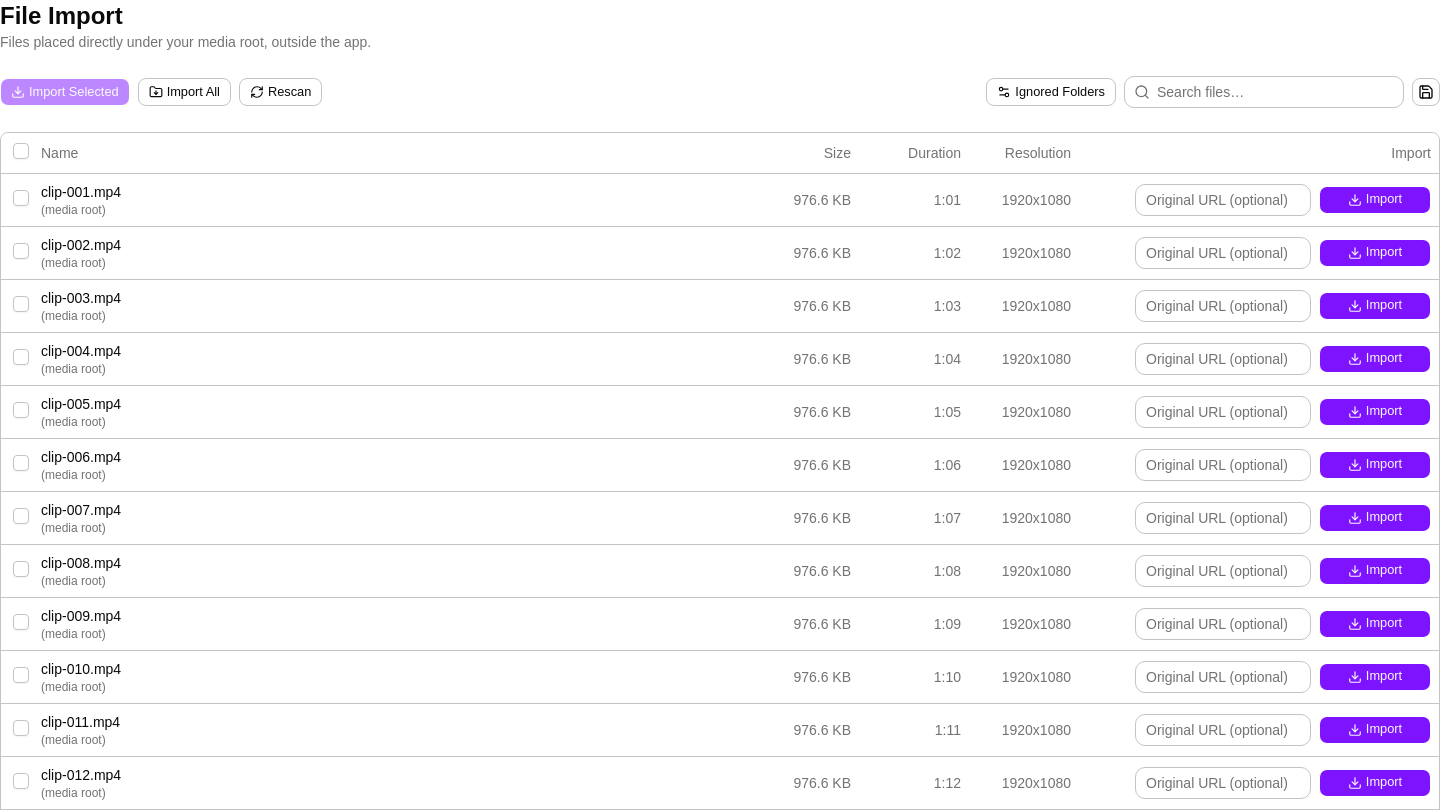
Scenario: ImportPage table › importing › Import All asks first, counts the pending files on every page and skips the imported ones
The width and height of the screenshot is (1440, 810).
Expected: the text "clip-001.mp4" is shown, [41,184,121,200]
Click the button "Import" in the row of "clip-001.mp4". click: coordinates (1375, 200)
box: [1319,186,1431,214]
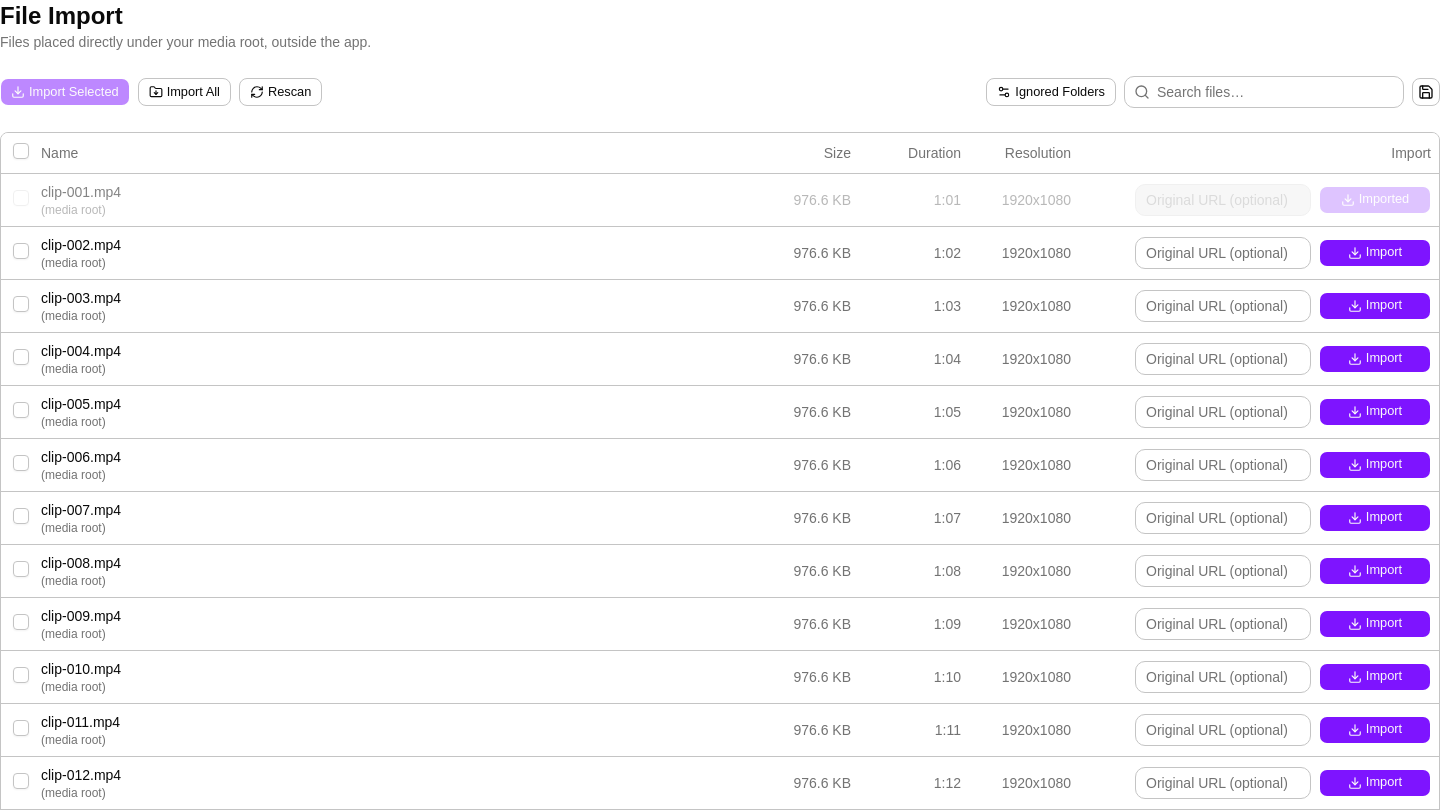
Now the button "Imported" is shown, box [1319,186,1431,214]
Click the button "Import All". click: coordinates (184, 92)
box: [138,78,231,106]
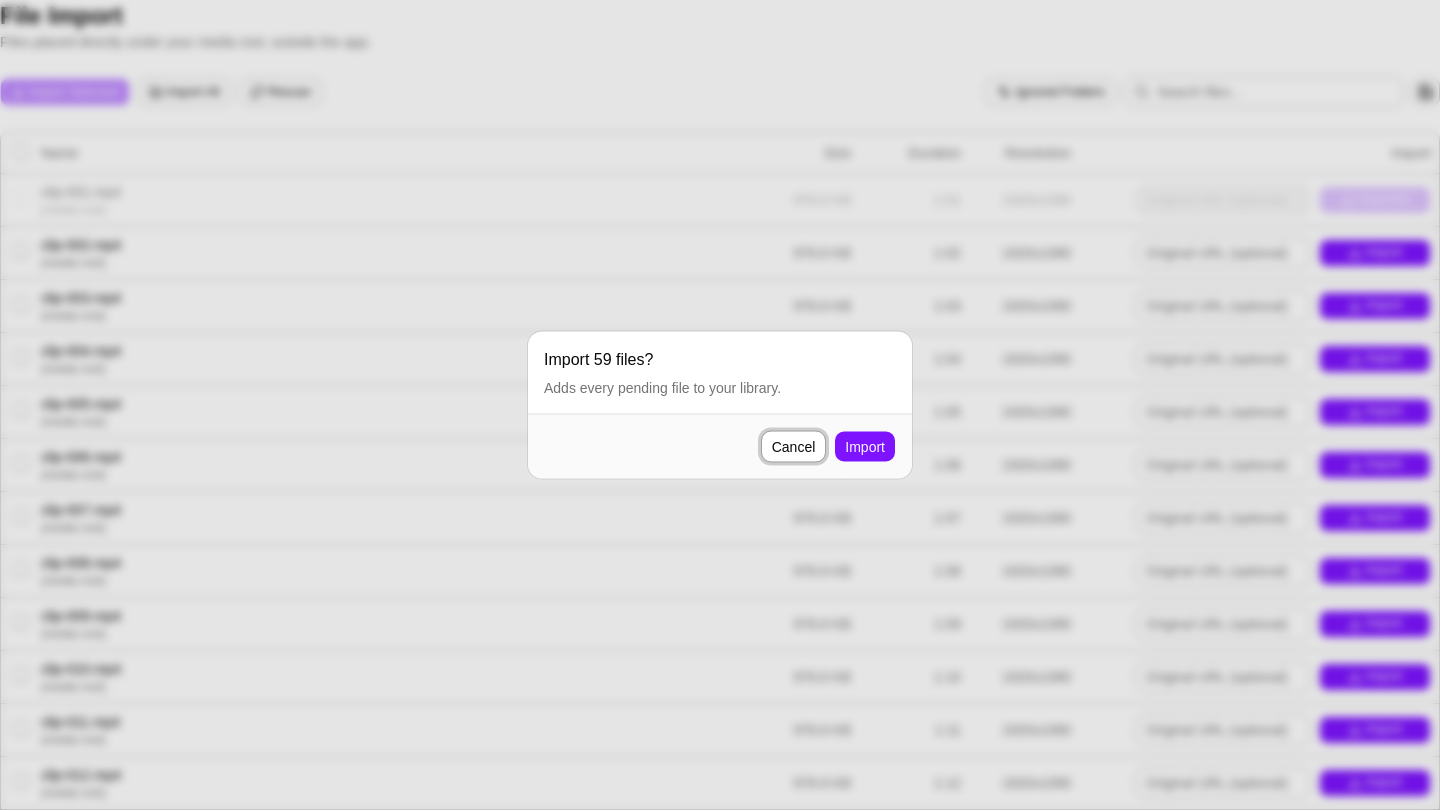
Now the heading "Import 59 files?" is shown, box [544,348,653,372]
Now the text "Adds every pending file to your library." is shown, box [544,378,781,398]
Click the button "Import". click: coordinates (865, 446)
box: [834,430,896,462]
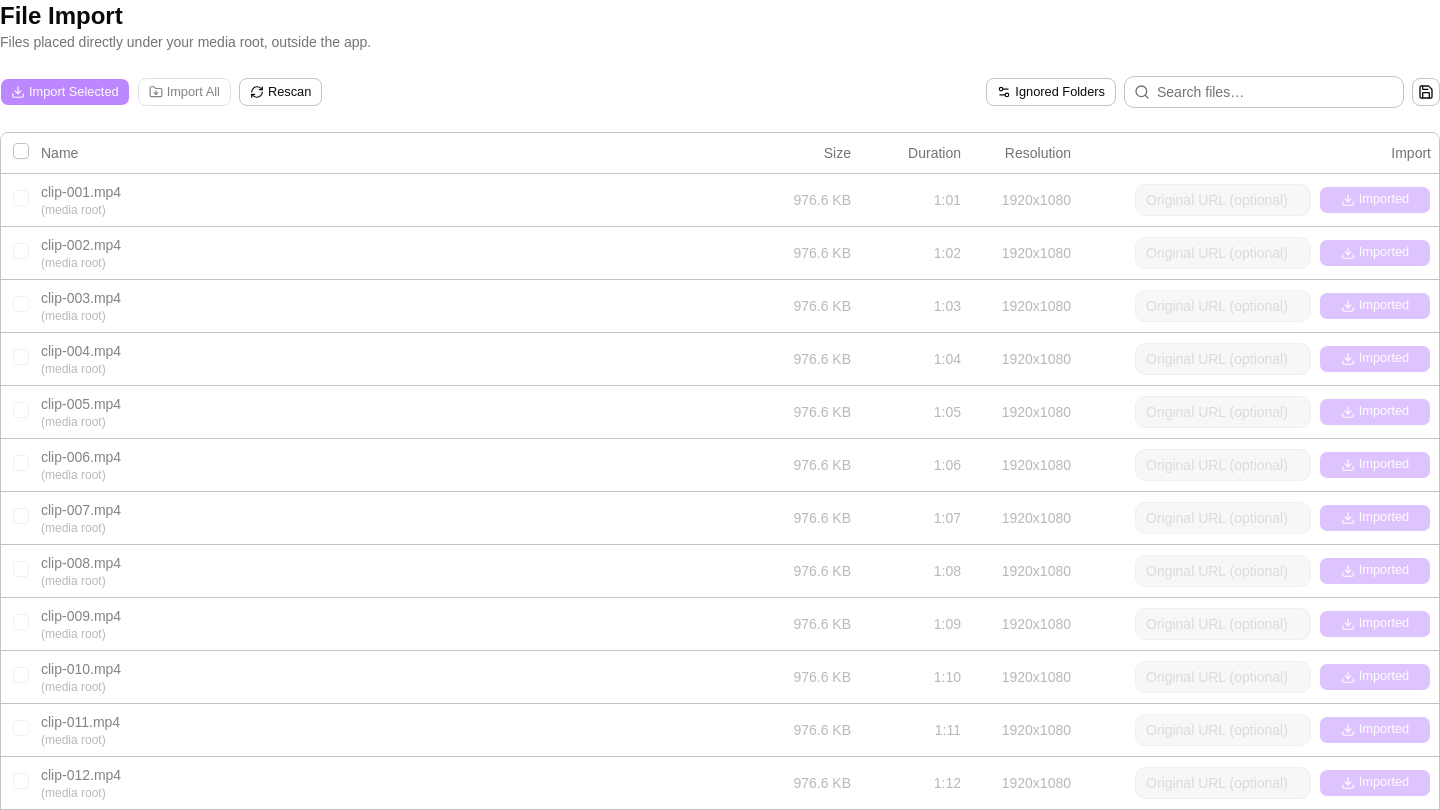
Now the button "Import All" is disabled, box [138,78,231,106]
